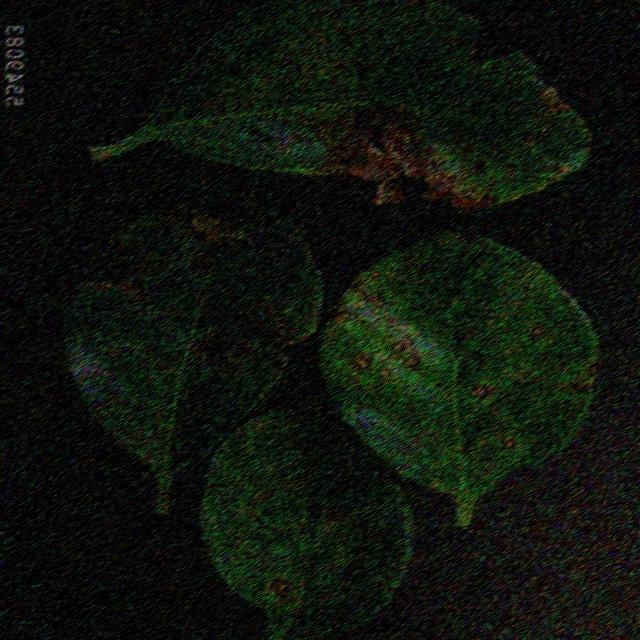leaf_spot: (318, 209, 590, 577)
